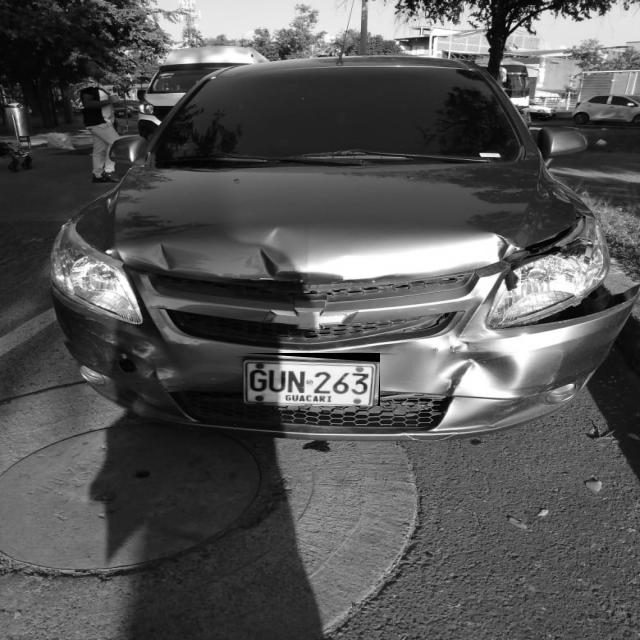plate: (243, 358, 380, 406)
